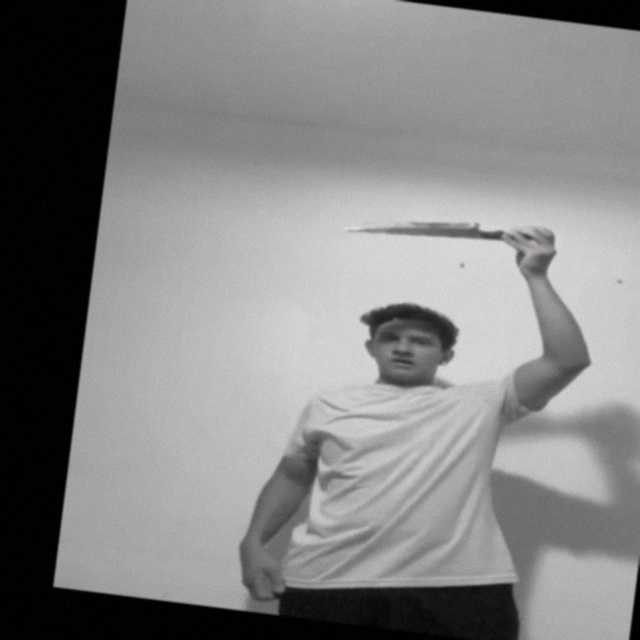Sharp-Object: (342, 206, 480, 250)
